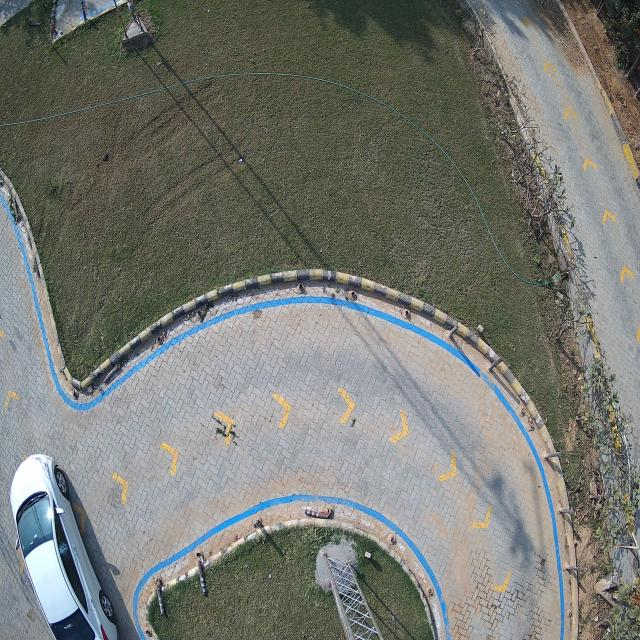car: (10, 453, 118, 640)
